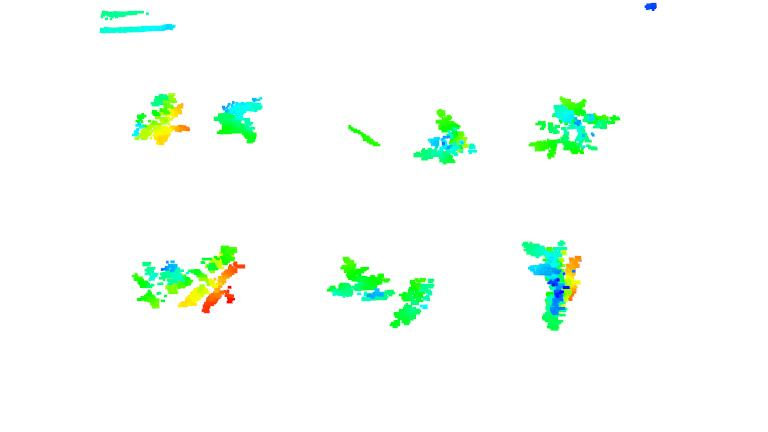chickpea: (127, 244, 249, 318), (528, 96, 620, 162), (519, 236, 583, 327), (384, 268, 444, 343), (412, 106, 474, 171), (130, 88, 191, 149), (322, 256, 396, 304), (214, 90, 264, 146)
